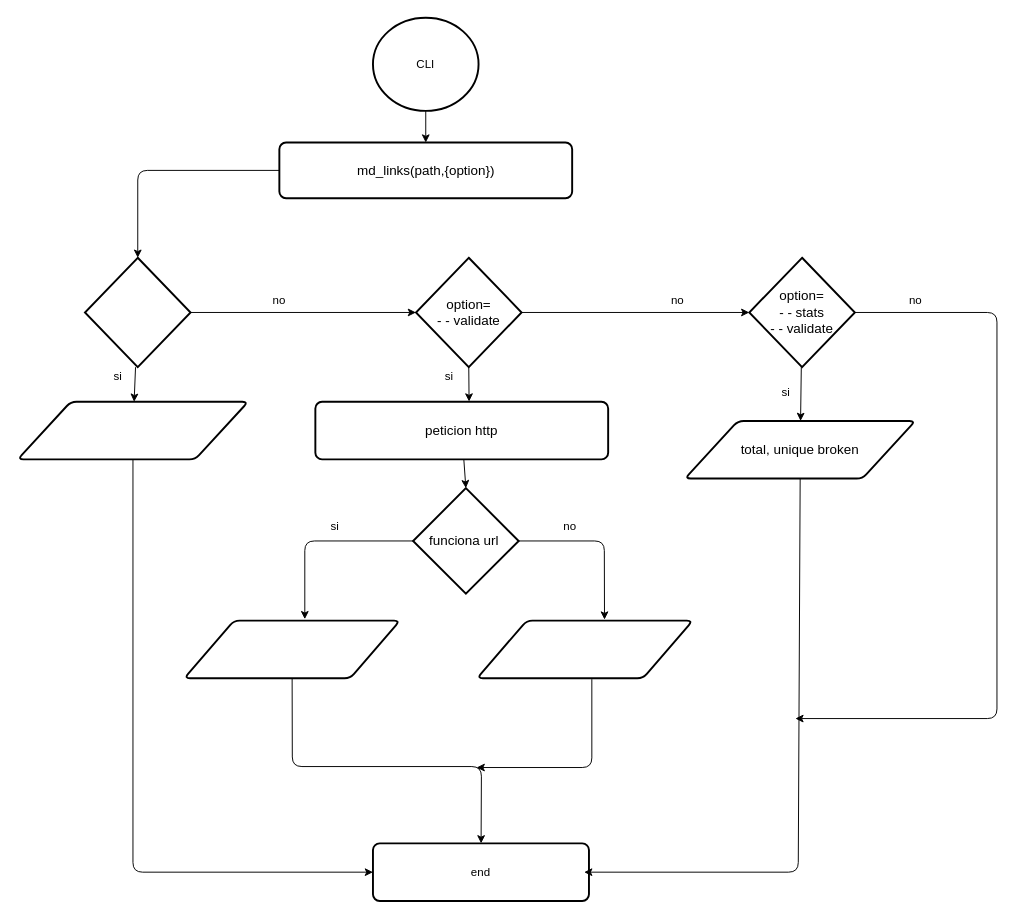
Some shapes in this 1021 by 918 pixel diagram are drawn without their labels. Each missing label, with the centre of its shape:
"option= - - stats" goes at (137,312).
"total,unique" goes at (132,430).
"url FAIL" goes at (584,649).
"url OK" goes at (291,649).
